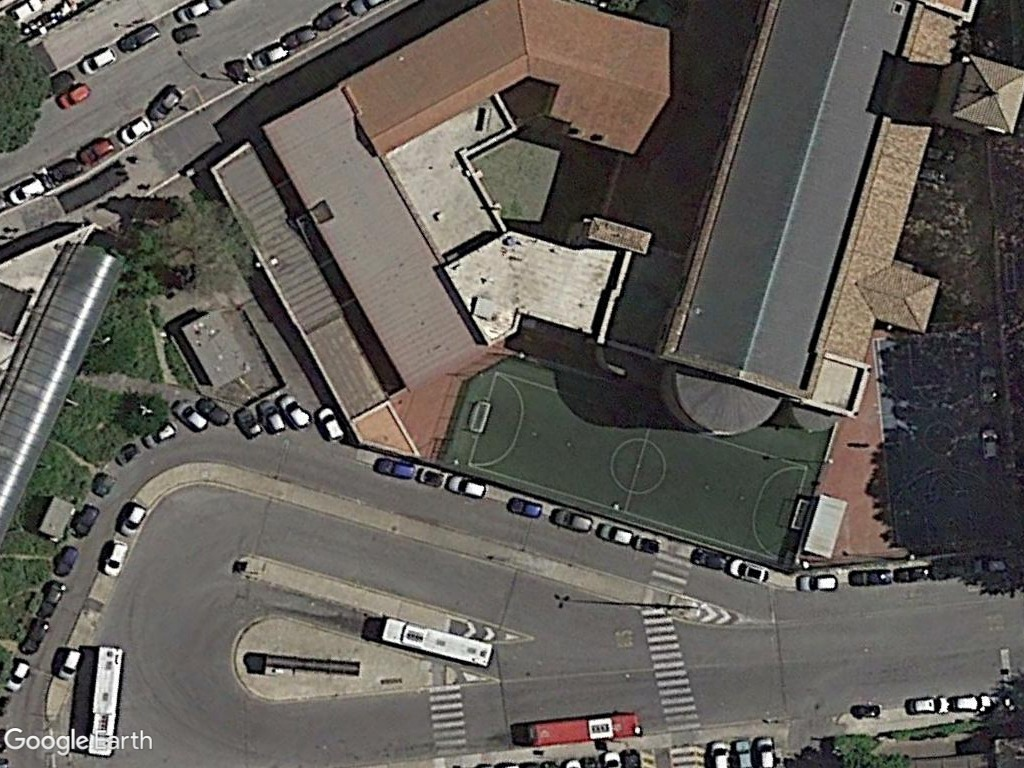bus: (373, 613, 495, 671), (522, 705, 645, 751), (85, 641, 126, 759)
car: (144, 84, 191, 125), (725, 556, 775, 587), (4, 176, 53, 207), (167, 396, 209, 432), (443, 472, 493, 502), (117, 23, 164, 54), (309, 2, 354, 34), (685, 544, 733, 574), (252, 395, 287, 436), (545, 505, 594, 534), (594, 519, 641, 549), (371, 453, 418, 483), (313, 401, 345, 445), (74, 135, 119, 166), (843, 564, 896, 590), (249, 41, 292, 73), (193, 392, 232, 427), (279, 388, 312, 429), (117, 114, 155, 148), (100, 538, 131, 578), (50, 543, 82, 581), (78, 47, 119, 76), (793, 571, 842, 595), (55, 82, 95, 111), (503, 494, 545, 521), (947, 690, 994, 714), (117, 503, 149, 538), (72, 502, 101, 540), (3, 658, 32, 695), (905, 695, 951, 717), (56, 648, 84, 683), (170, 1, 212, 24), (752, 734, 777, 768), (730, 736, 754, 768), (705, 740, 732, 768)
other: (230, 403, 262, 441), (415, 466, 445, 488)
